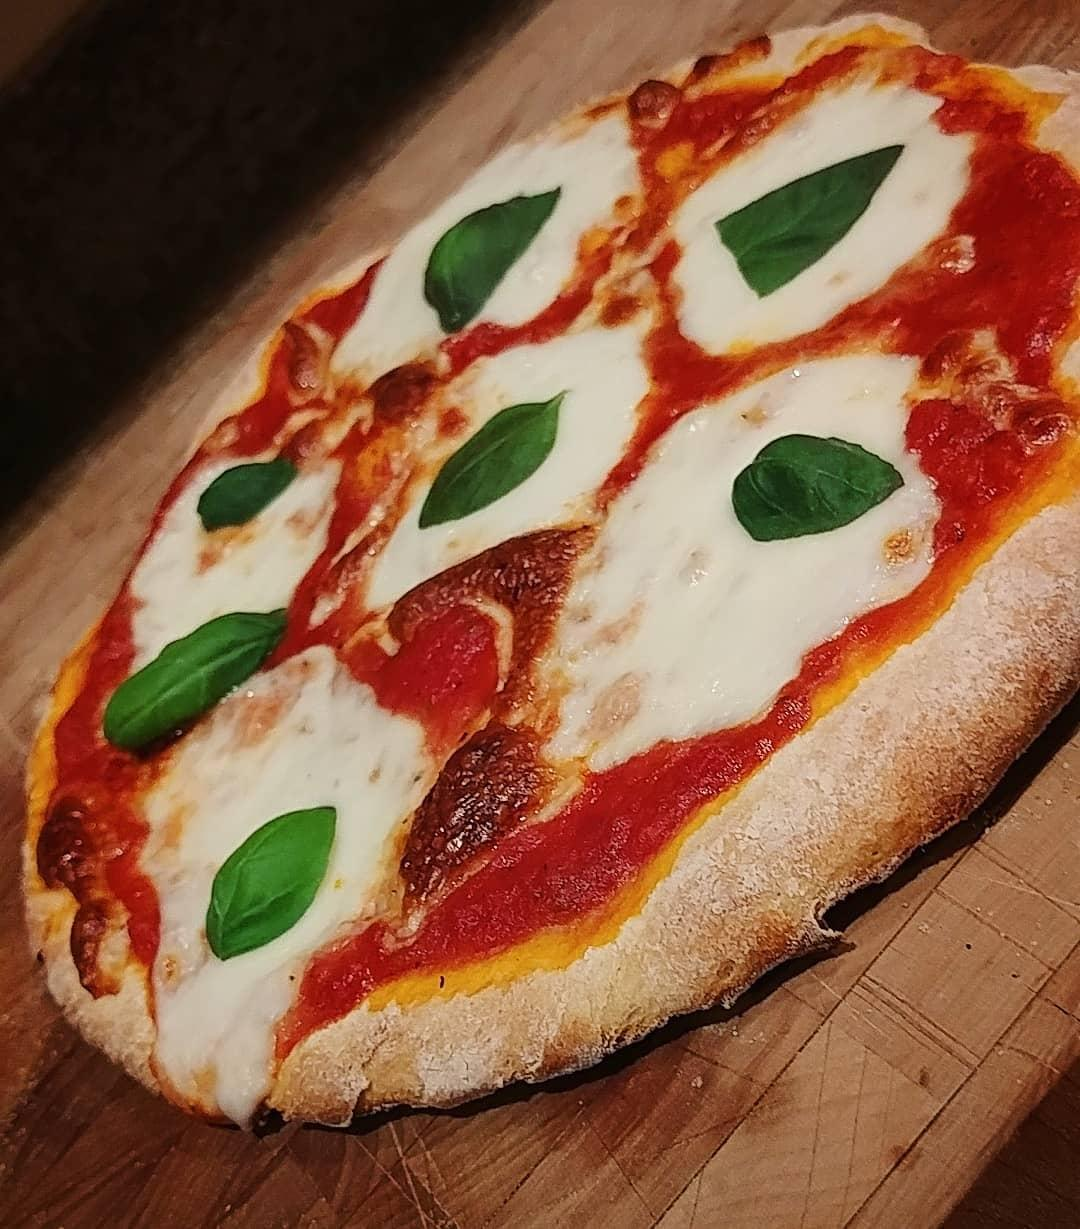Basil: (706, 131, 919, 300), (95, 610, 285, 756), (720, 420, 912, 556), (426, 170, 577, 340), (406, 393, 566, 535), (196, 808, 347, 957), (183, 445, 303, 548)
Cheese: (580, 425, 888, 699), (176, 711, 377, 940), (418, 139, 625, 320), (156, 488, 305, 618)
Pizza: (21, 30, 1080, 1117)
